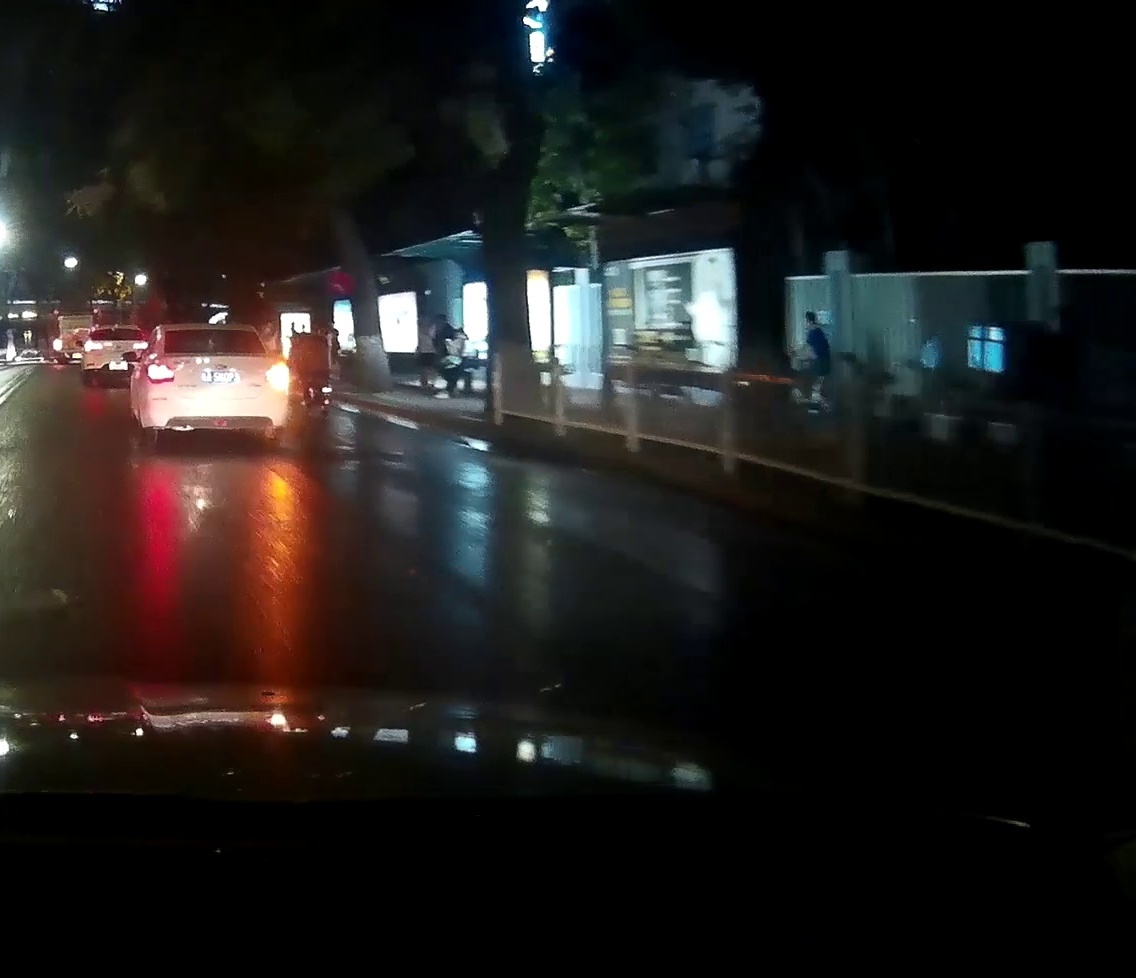L_light: (146, 363, 175, 383)
R_light: (266, 364, 288, 384)
T_light: (204, 330, 223, 333)
night-right: (140, 322, 289, 444)
